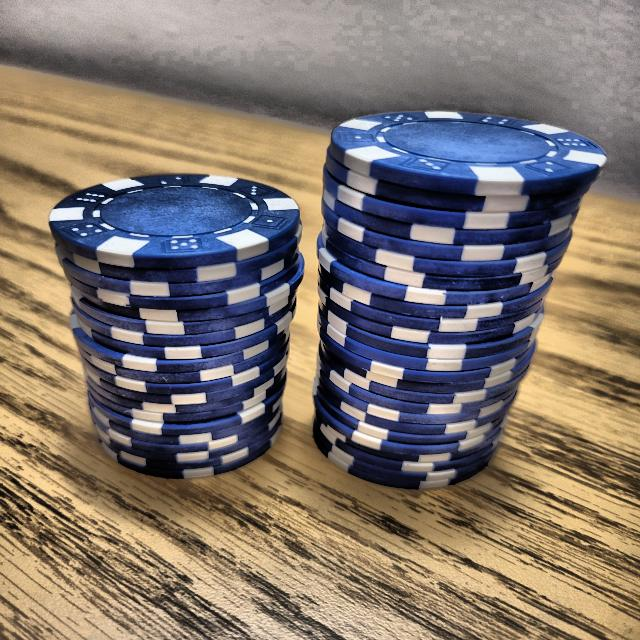Chip: (281, 89, 610, 514), (25, 161, 342, 490)
